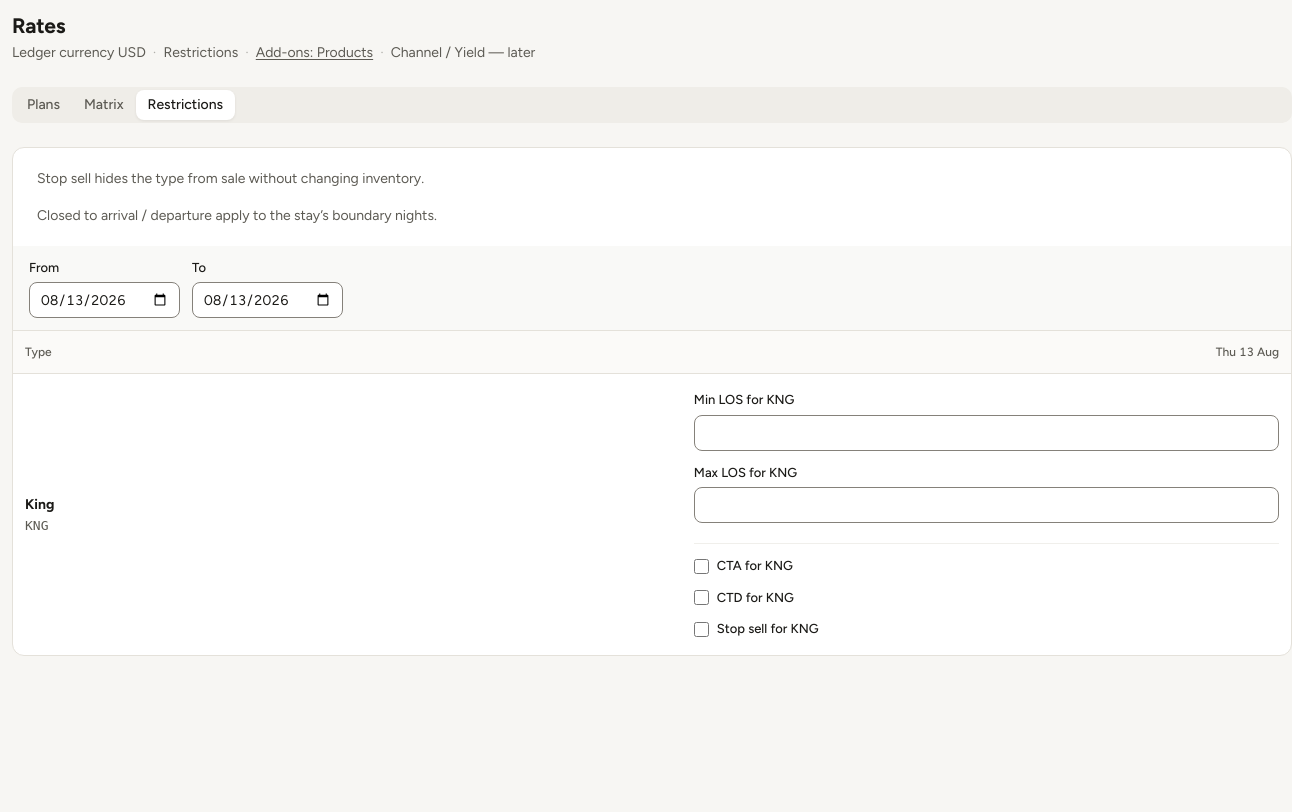
Test: RatesScreen › applies another user restriction change without clobbering the field being typed
The image size is (1292, 812).
In the number field labelled "Max LOS for KNG": (986, 506) [694,488,1279,524], type "7"
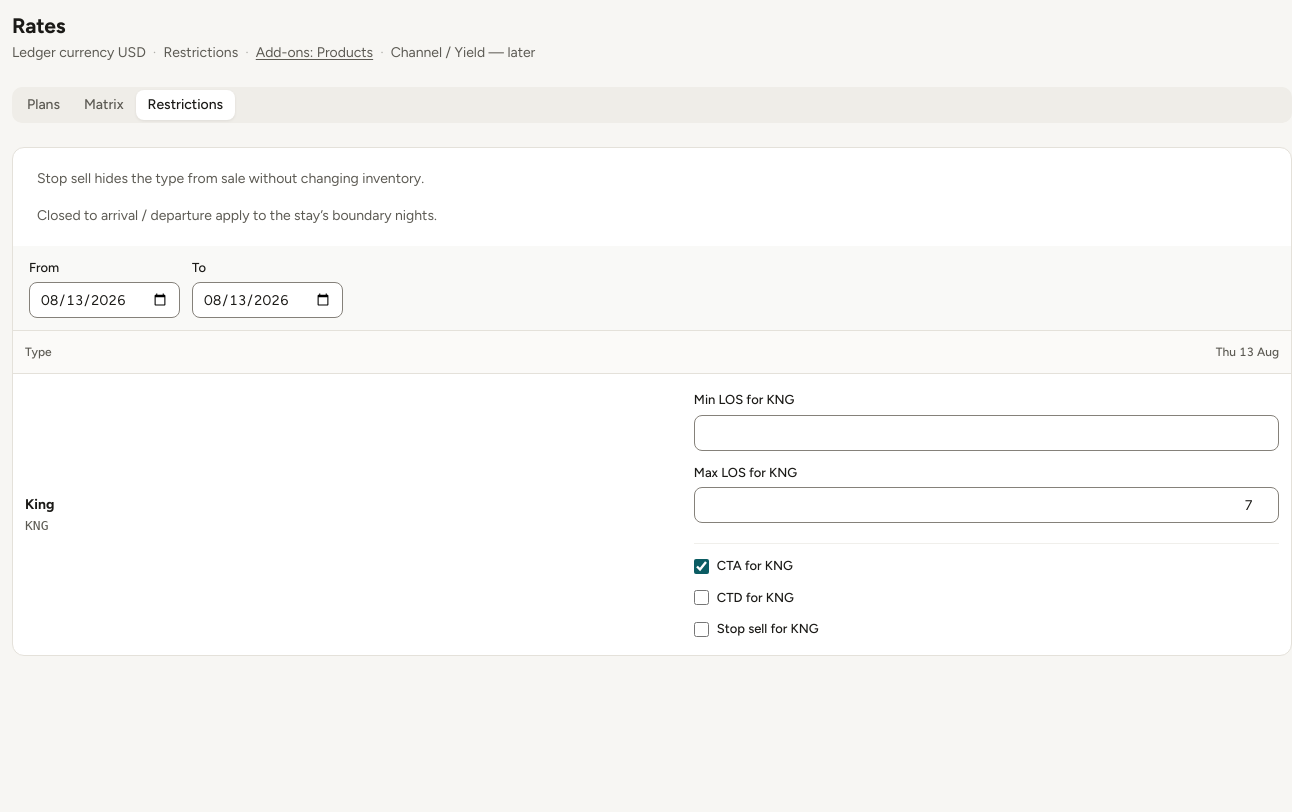
Result: the checkbox labelled "CTA for KNG" is checked at [694,559,709,574]
